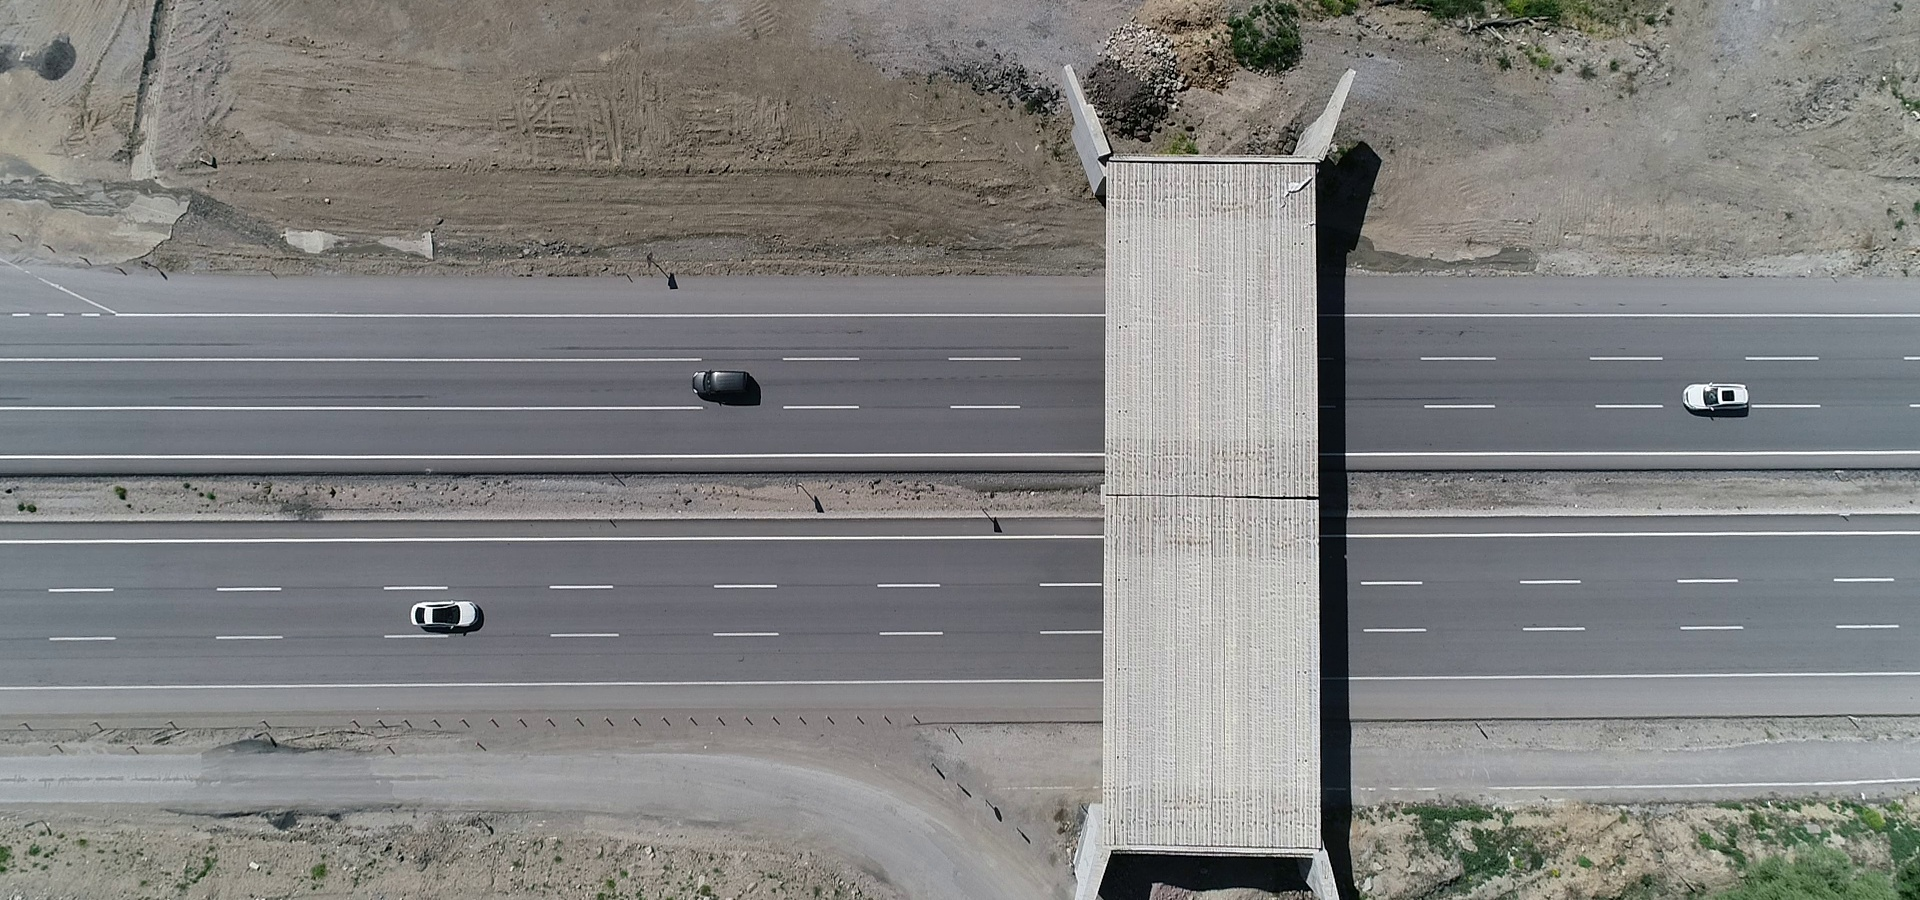araba: (408, 591, 487, 642), (1674, 371, 1755, 418), (689, 358, 764, 400)
